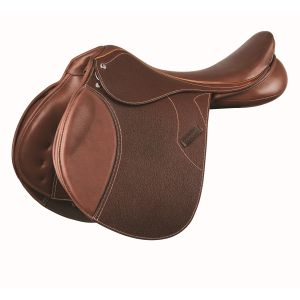saddle: (15, 23, 292, 236)
